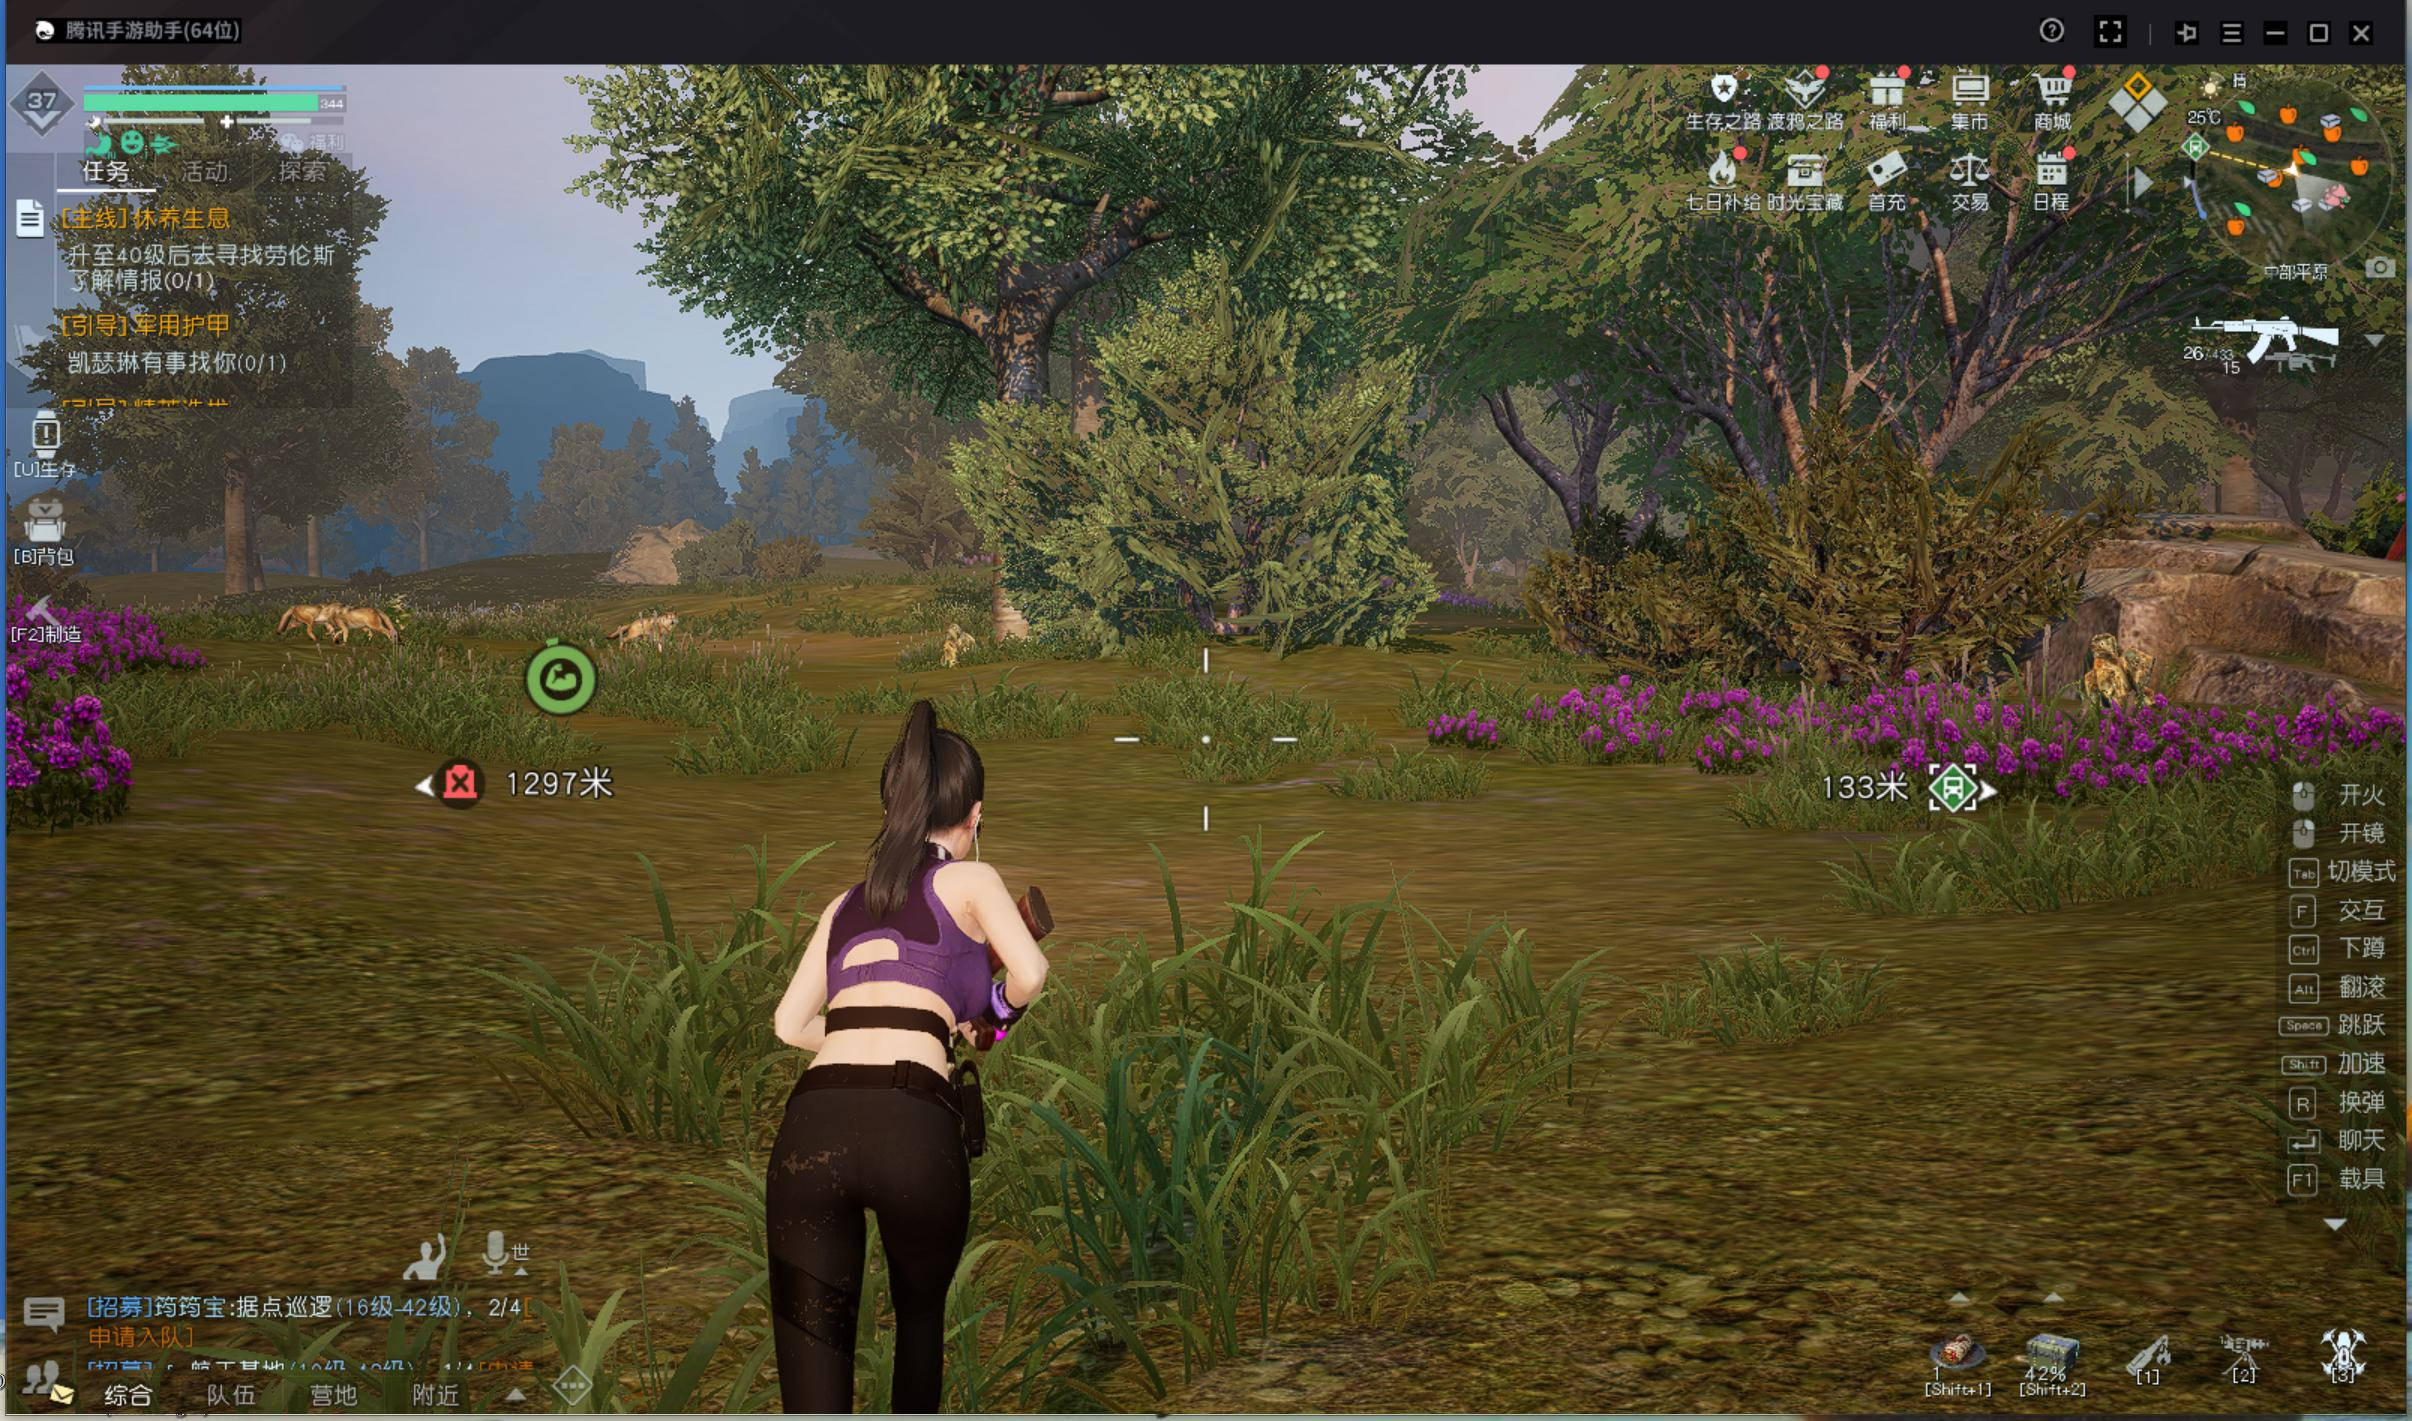tree: (986, 359, 1061, 650), (215, 474, 262, 606)
